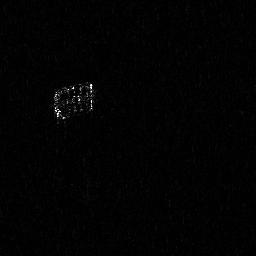ship: (51, 80, 97, 124)
